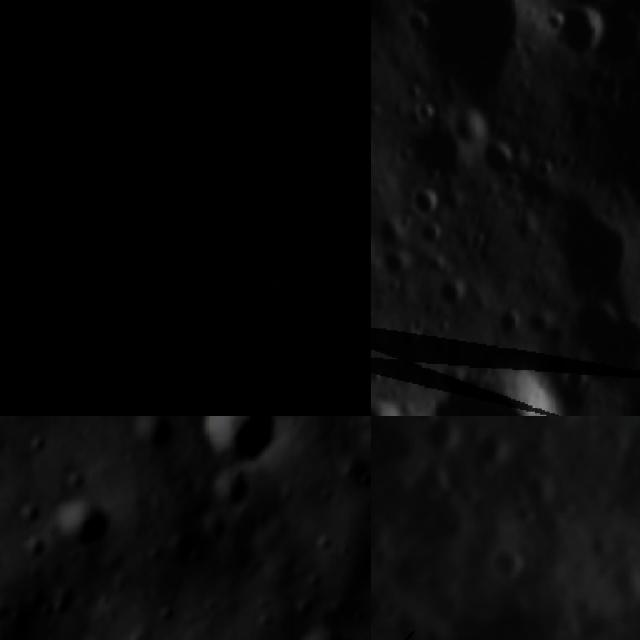crater: (233, 99, 371, 279), (407, 0, 550, 109), (0, 54, 88, 209), (75, 289, 187, 405), (41, 154, 133, 294), (553, 200, 640, 303), (425, 358, 564, 416), (557, 303, 640, 390), (190, 416, 282, 473), (0, 314, 50, 409), (451, 416, 520, 482), (43, 494, 111, 558), (545, 0, 611, 62), (478, 528, 531, 587), (192, 476, 255, 519), (596, 552, 640, 613), (508, 464, 562, 513), (413, 416, 470, 459), (472, 137, 522, 186), (576, 515, 624, 559), (399, 178, 443, 216), (375, 242, 413, 284), (284, 618, 351, 640), (0, 224, 17, 285), (414, 223, 445, 254), (371, 386, 402, 416)
